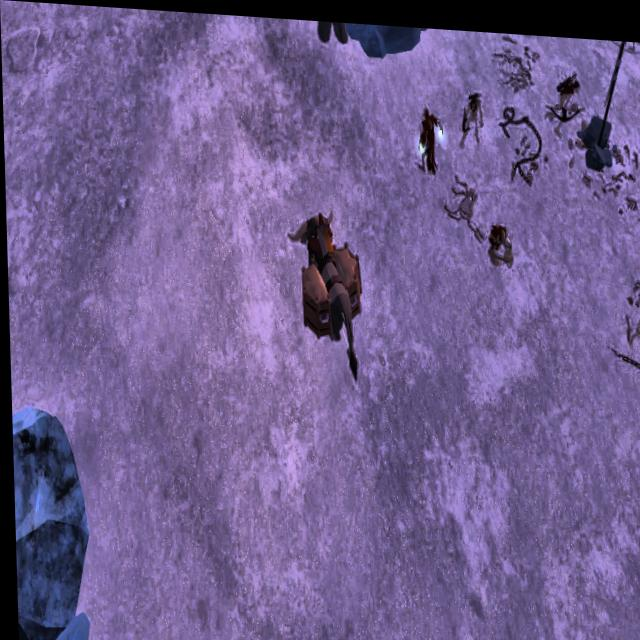enemy_factionUndead: (412, 101, 444, 171), (548, 65, 583, 124), (459, 81, 485, 139), (486, 214, 516, 263)
